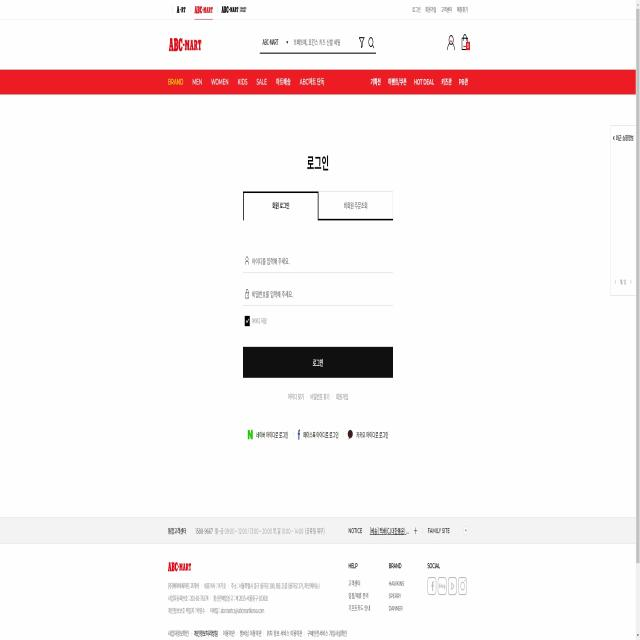menu-bar: (443, 28, 472, 57)
search: (255, 29, 378, 57)
tab-bar: (165, 72, 326, 91), (170, 1, 250, 20)
